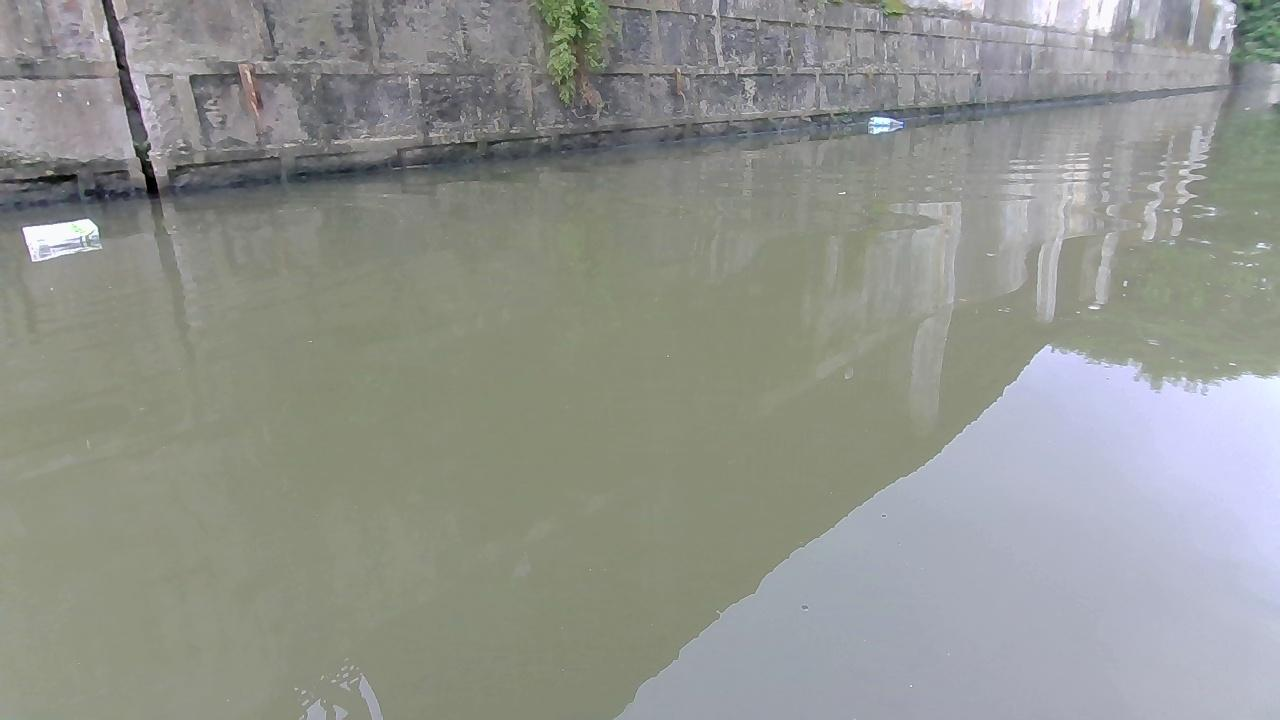bottle: (19, 214, 99, 254), (859, 113, 904, 132)
